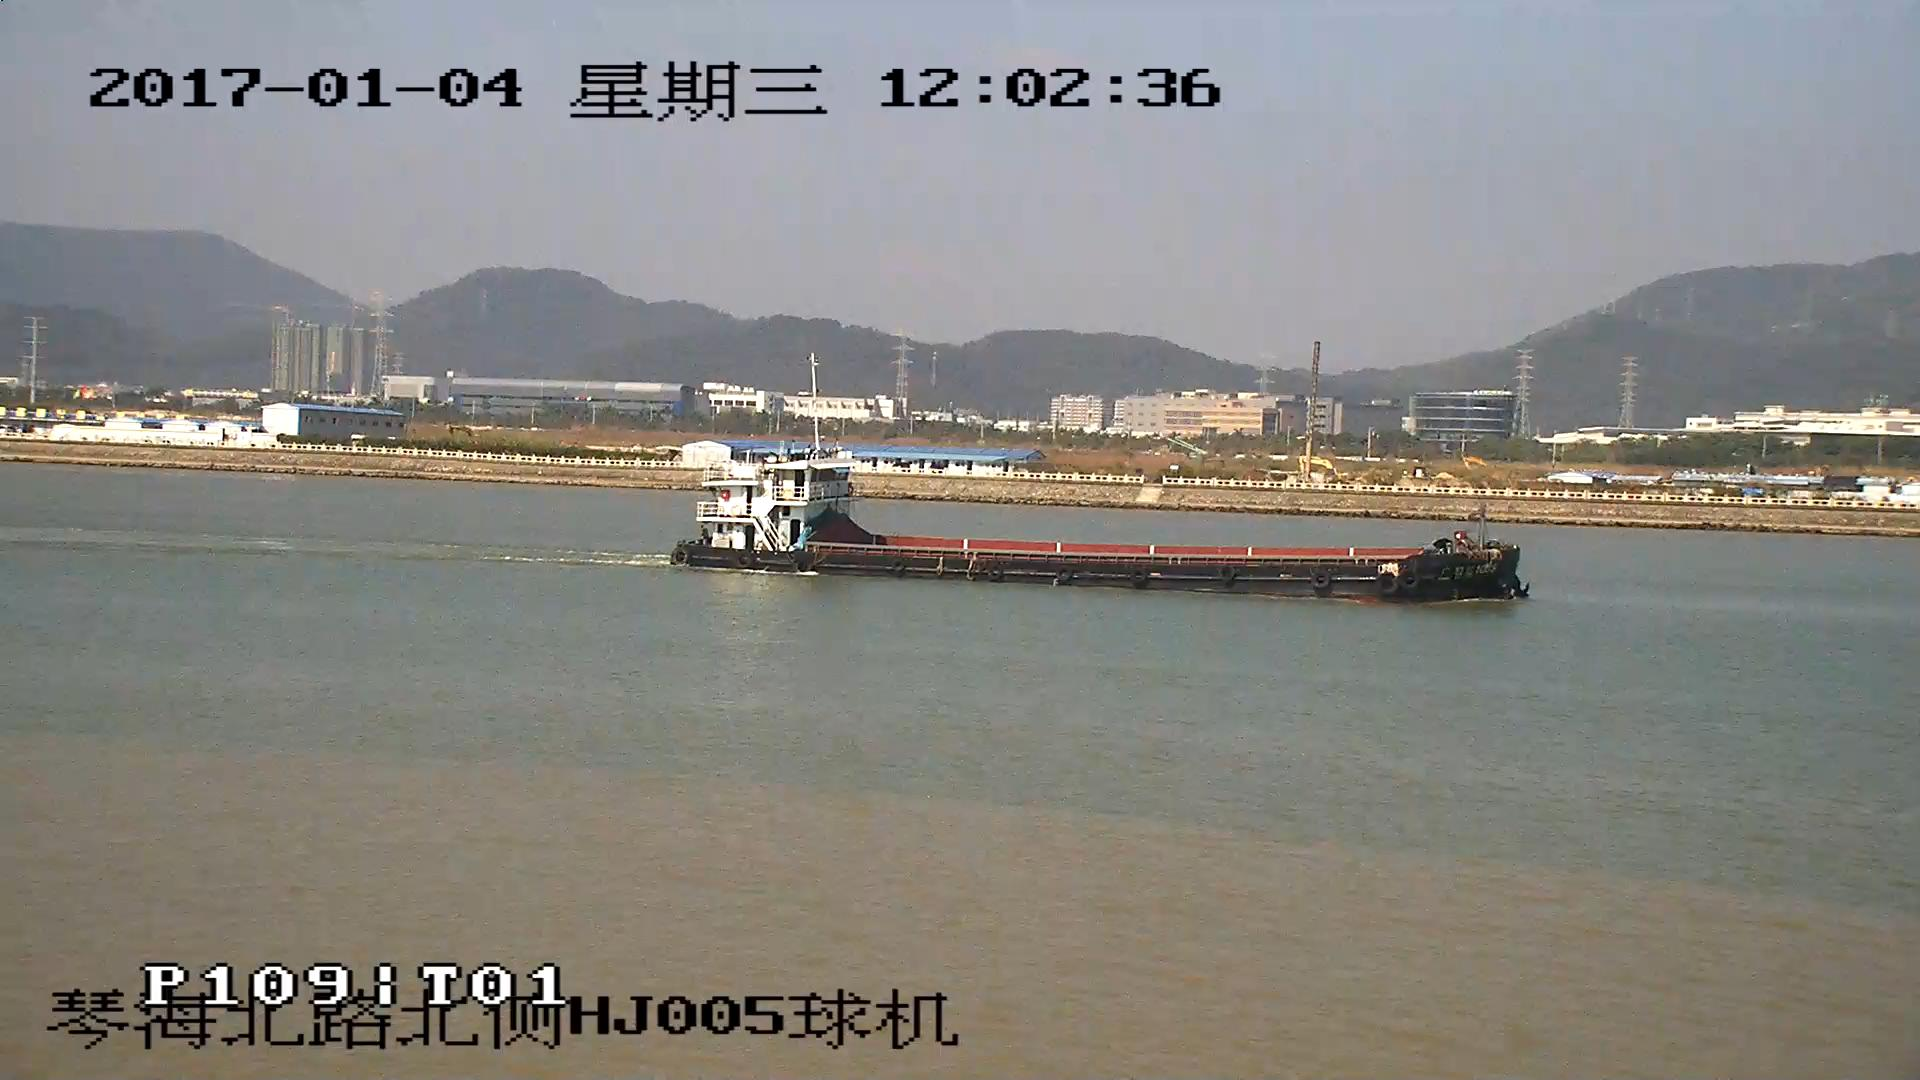general cargo ship: (671, 455, 1530, 602)
